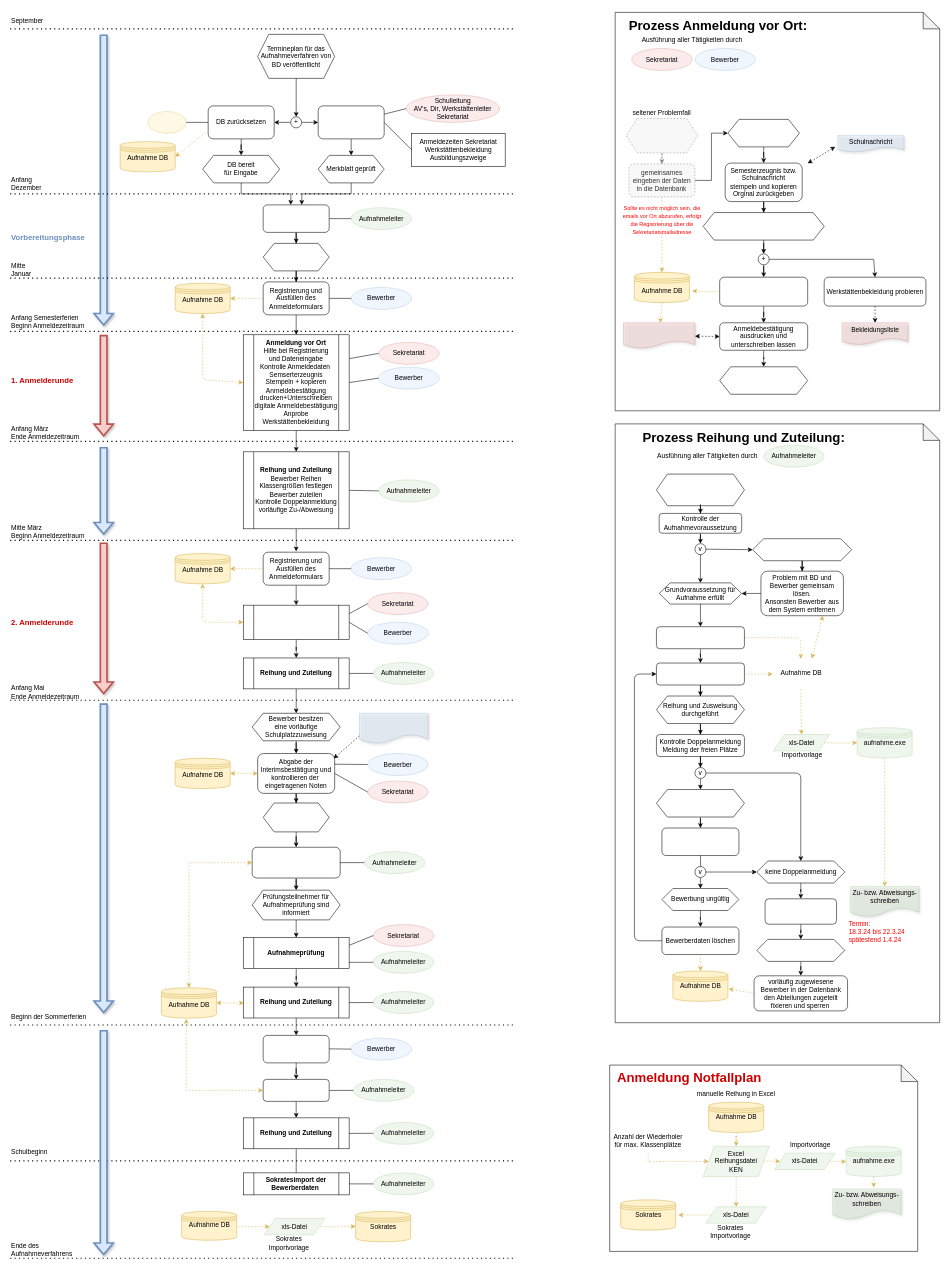
The diagram is 949 pixels wide and 1269 high, and some of its shapes have lost their labels. Here are the shapes that lost their labels. From the top down, the centre of each, then its label:
pixel 166 122: IT Admin
pixel 351 122: Merkblatt überarbeiten
pixel 662 135: keine Registrierung bzw. Formular unvollständig
pixel 763 133: online-Formular vollständig ausgefüllt
pixel 296 218: Informationen auf Webseite veröffentlichen
pixel 763 226: Unterlagen vollständig vorhanden
pixel 296 257: Infos auf Webseite bereitgestellt
pixel 763 291: Noten und Abteilungswünsche prüfen/eingeben/korrigieren
pixel 659 336: Anmelde-bestätigung
pixel 763 380: Vor-Ort-Anmeldung abgeschlossen
pixel 700 490: Anmeldedaten der Bewerber digital vollständig erfasst
pixel 802 549: Grundvoraussetzung für Aufnahme nicht erfüllt
pixel 296 622: Anmeldung vor Ort
pixel 700 637: Klassengrößen festlegen
pixel 700 673: Bewerber reihen und den Abteilungen zuweisen
pixel 394 729: Interimsbestätigung
pixel 296 817: Daten geprüft und aktualisiert
pixel 700 803: bei mehreren Schulen angemeldet
pixel 700 841: Klärung mit Eltern und betroffener Schule
pixel 296 862: Teilnehmer für die Aufnahmeprüfungen ermitteln und informieren
pixel 801 911: Zu- bzw. Abweisungs-schreiben erstellen
pixel 800 950: Zu- bzw. Abweisungs-schreiben versendet
pixel 296 1049: Meldung der Nichtannahme des Schulplatzes
pixel 296 1090: Bewerber aus Datenbank entfernen
